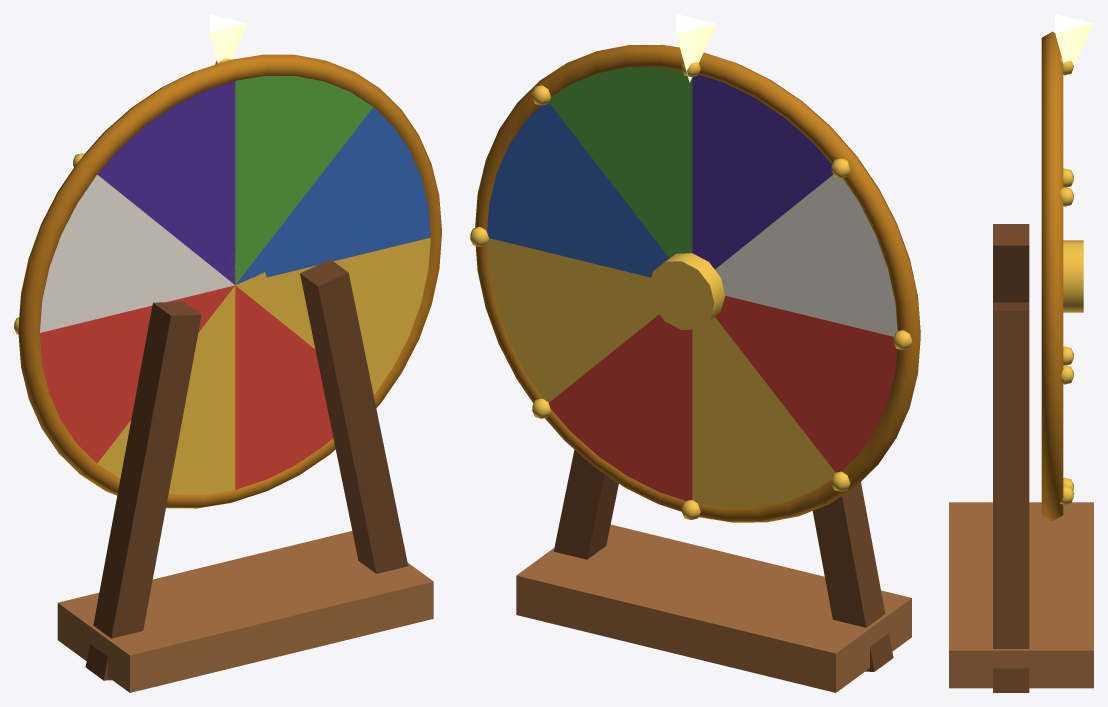
File: SpinWheel.glb
The picture shows the model from 3 angles, left to right: view 1: azimuth 30°, elevation 25°; view 2: azimuth 150°, elevation 25°; view 3: azimuth 270°, elevation 25°; orthographic projection. The views are drawn at different scales.
Visible parts, largest first — view 1: Wheel, Body, Glow; view 2: Wheel, Body, Glow; view 3: Body, Wheel, Glow.
Boxes of the visible parts, bbox=[...] form: Wheel: bbox=[14, 54, 441, 508]; Body: bbox=[57, 259, 433, 692]; Glow: bbox=[209, 14, 247, 63]; Wheel: bbox=[470, 44, 920, 522]; Body: bbox=[516, 450, 911, 692]; Glow: bbox=[676, 14, 716, 82]; Body: bbox=[949, 224, 1093, 692]; Wheel: bbox=[1041, 31, 1083, 521]; Glow: bbox=[1055, 14, 1093, 78].
Size of the model in its own units: 4.74 by 6.4 by 1.4.
3 materials, 2 textured.
